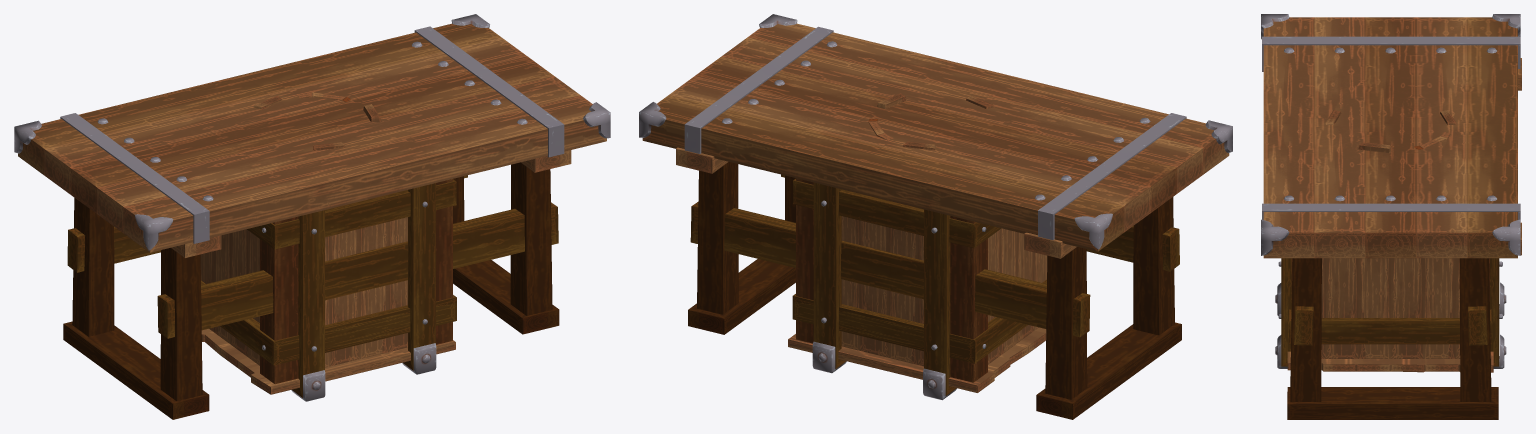
File: quaternius-workshop-props.glb
The picture shows the model from 3 angles, left to right: view 1: azimuth 30°, elevation 25°; view 2: azimuth 150°, elevation 25°; view 3: azimuth 270°, elevation 25°; orthographic projection. The views are drawn at different scales.
Visible parts, largest first — view 1: Workbench, Crate_Wooden, Barrel; view 2: Workbench, Crate_Wooden, Barrel; view 3: Workbench, Crate_Wooden, Barrel.
Boxes of the visible parts, x1,y1,x2,y2 form: Workbench: (14, 14, 610, 419); Crate_Wooden: (200, 179, 456, 401); Barrel: (253, 92, 381, 150); Workbench: (639, 14, 1232, 419); Crate_Wooden: (788, 178, 1047, 400); Barrel: (868, 93, 994, 150); Workbench: (1261, 14, 1521, 419); Crate_Wooden: (1275, 258, 1506, 372); Barrel: (1325, 110, 1456, 153).
Size of the model in its own units: 2.02 by 0.9538 by 1.02.
Materials: 2 (2 with a texture image).
